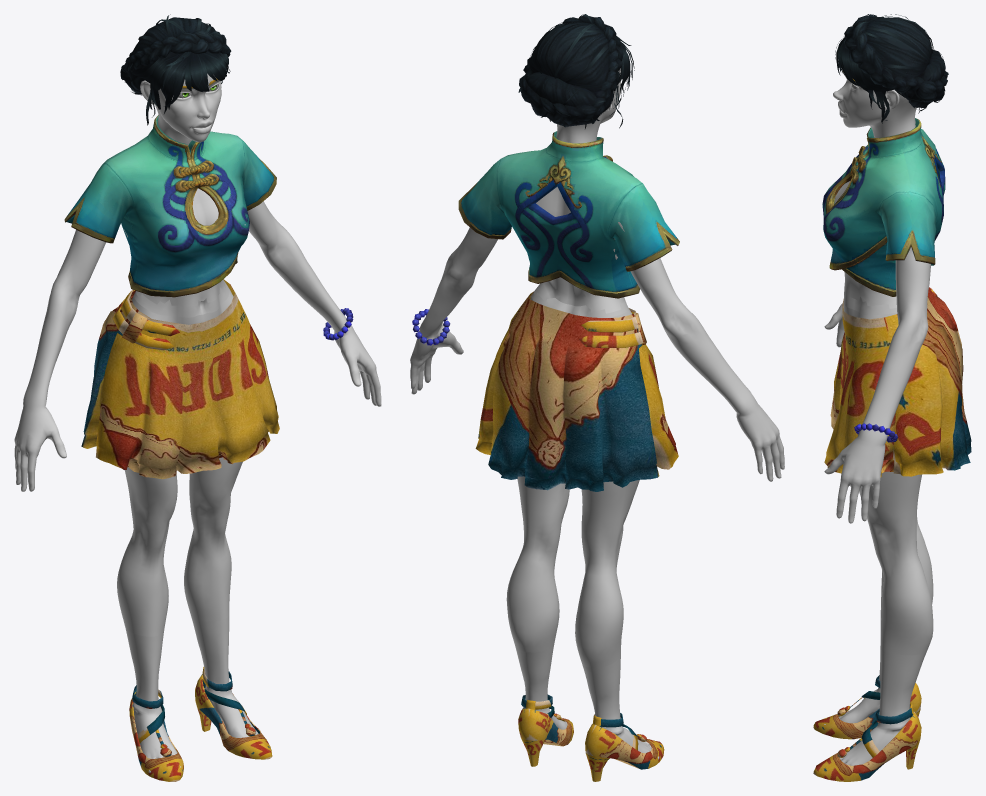
File: Character 10.fbx
The picture shows the model from 3 angles, left to right: view 1: azimuth 30°, elevation 25°; view 2: azimuth 150°, elevation 25°; view 3: azimuth 270°, elevation 25°; orthographic projection. The views are drawn at different scales.
Visible parts, largest first — view 1: skirt 3, top 8, body.002, legs.001, hair 18, legs, shoes 12, head, body.001; view 2: skirt 3, top 8, legs.001, body.002, hair 18, shoes 12, legs, body.001, head; view 3: skirt 3, top 8, body.002, legs.001, hair 18, shoes 12, legs, head, body.001.
Part boxes in pixels (bbox=[...]): skirt 3: bbox=[81, 279, 279, 479]; top 8: bbox=[64, 115, 353, 340]; body.002: bbox=[14, 188, 381, 491]; legs.001: bbox=[117, 457, 242, 636]; hair 18: bbox=[120, 14, 231, 125]; legs: bbox=[125, 287, 258, 772]; shoes 12: bbox=[129, 667, 272, 781]; head: bbox=[140, 73, 221, 145]; body.001: bbox=[127, 199, 245, 306]; skirt 3: bbox=[475, 291, 678, 491]; top 8: bbox=[412, 131, 679, 345]; legs.001: bbox=[506, 476, 639, 667]; body.002: bbox=[410, 186, 784, 481]; hair 18: bbox=[518, 14, 634, 128]; shoes 12: bbox=[518, 694, 664, 781]; legs: bbox=[515, 295, 659, 759]; body.001: bbox=[534, 191, 625, 313]; head: bbox=[556, 68, 621, 143]; skirt 3: bbox=[824, 287, 971, 477]; top 8: bbox=[822, 118, 945, 442]; body.002: bbox=[824, 247, 930, 523]; legs.001: bbox=[859, 471, 933, 655]; hair 18: bbox=[835, 14, 948, 123]; shoes 12: bbox=[813, 675, 921, 781]; legs: bbox=[824, 295, 926, 765]; head: bbox=[833, 79, 916, 137]; body.001: bbox=[827, 181, 896, 308].
Bounding box in the file's own units: 96.47 × 188 × 36.78.
